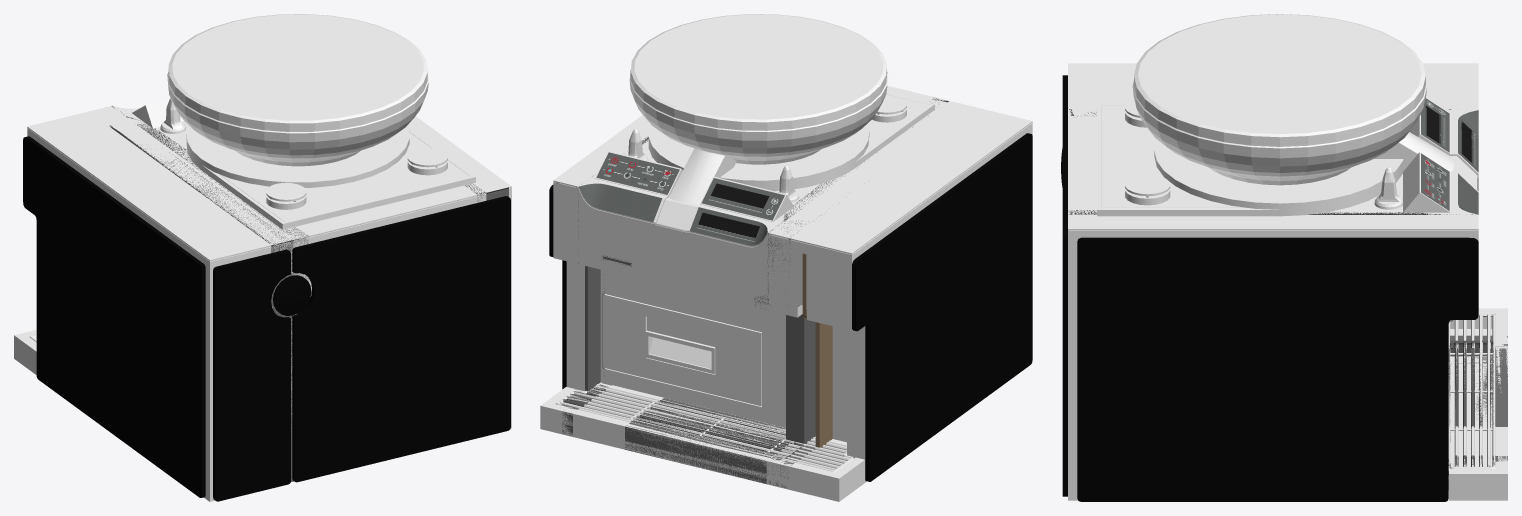
The model's file is coffee machine 2.fbx.
3 renders of one model, left to right at view 1: azimuth 30°, elevation 25°; view 2: azimuth 150°, elevation 25°; view 3: azimuth 270°, elevation 25°, orthographic. The views are drawn at different scales.
Visible parts, largest first — view 1: ____OLD, MAIN BODY R, MAIN BODY; view 2: ____OLD, TRAY, MAIN BODY R, SIDE R, MAIN BODY L, TRAY L; view 3: ____OLD, TRAY, TRAY R.
Part boxes in pixels (x1,y1,x2,y2): ____OLD: (14,14,511,501); MAIN BODY R: (110,125,293,481); MAIN BODY: (111,106,485,279); ____OLD: (540,14,1032,501); TRAY: (625,398,791,483); MAIN BODY R: (769,221,815,443); SIDE R: (802,253,832,447); MAIN BODY L: (556,182,604,391); TRAY L: (561,382,611,435); ____OLD: (1061,14,1507,501); TRAY: (1448,348,1507,441); TRAY R: (1449,335,1507,363).
Size of the model in its own units: 52.96 by 52.38 by 58.82.
